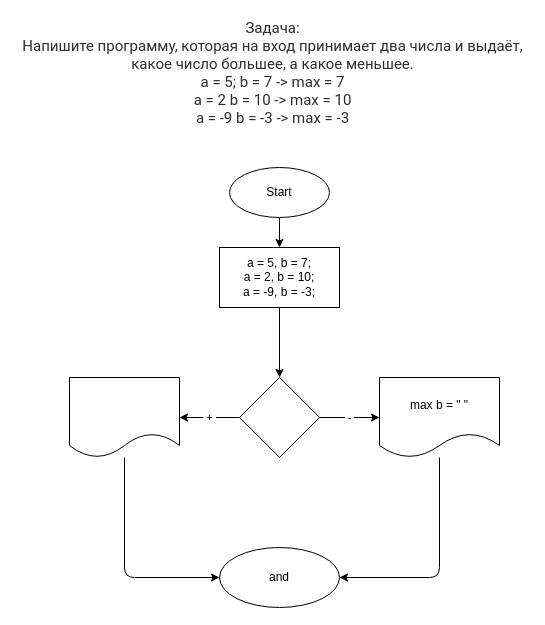
This 545x625 diagram has some shape labels left out. The shapes that lost their labels are listed below. From the top down, each one's centre as x and y in pixels, then its label:
(124,417): max a = " "
(279,417): a > b
